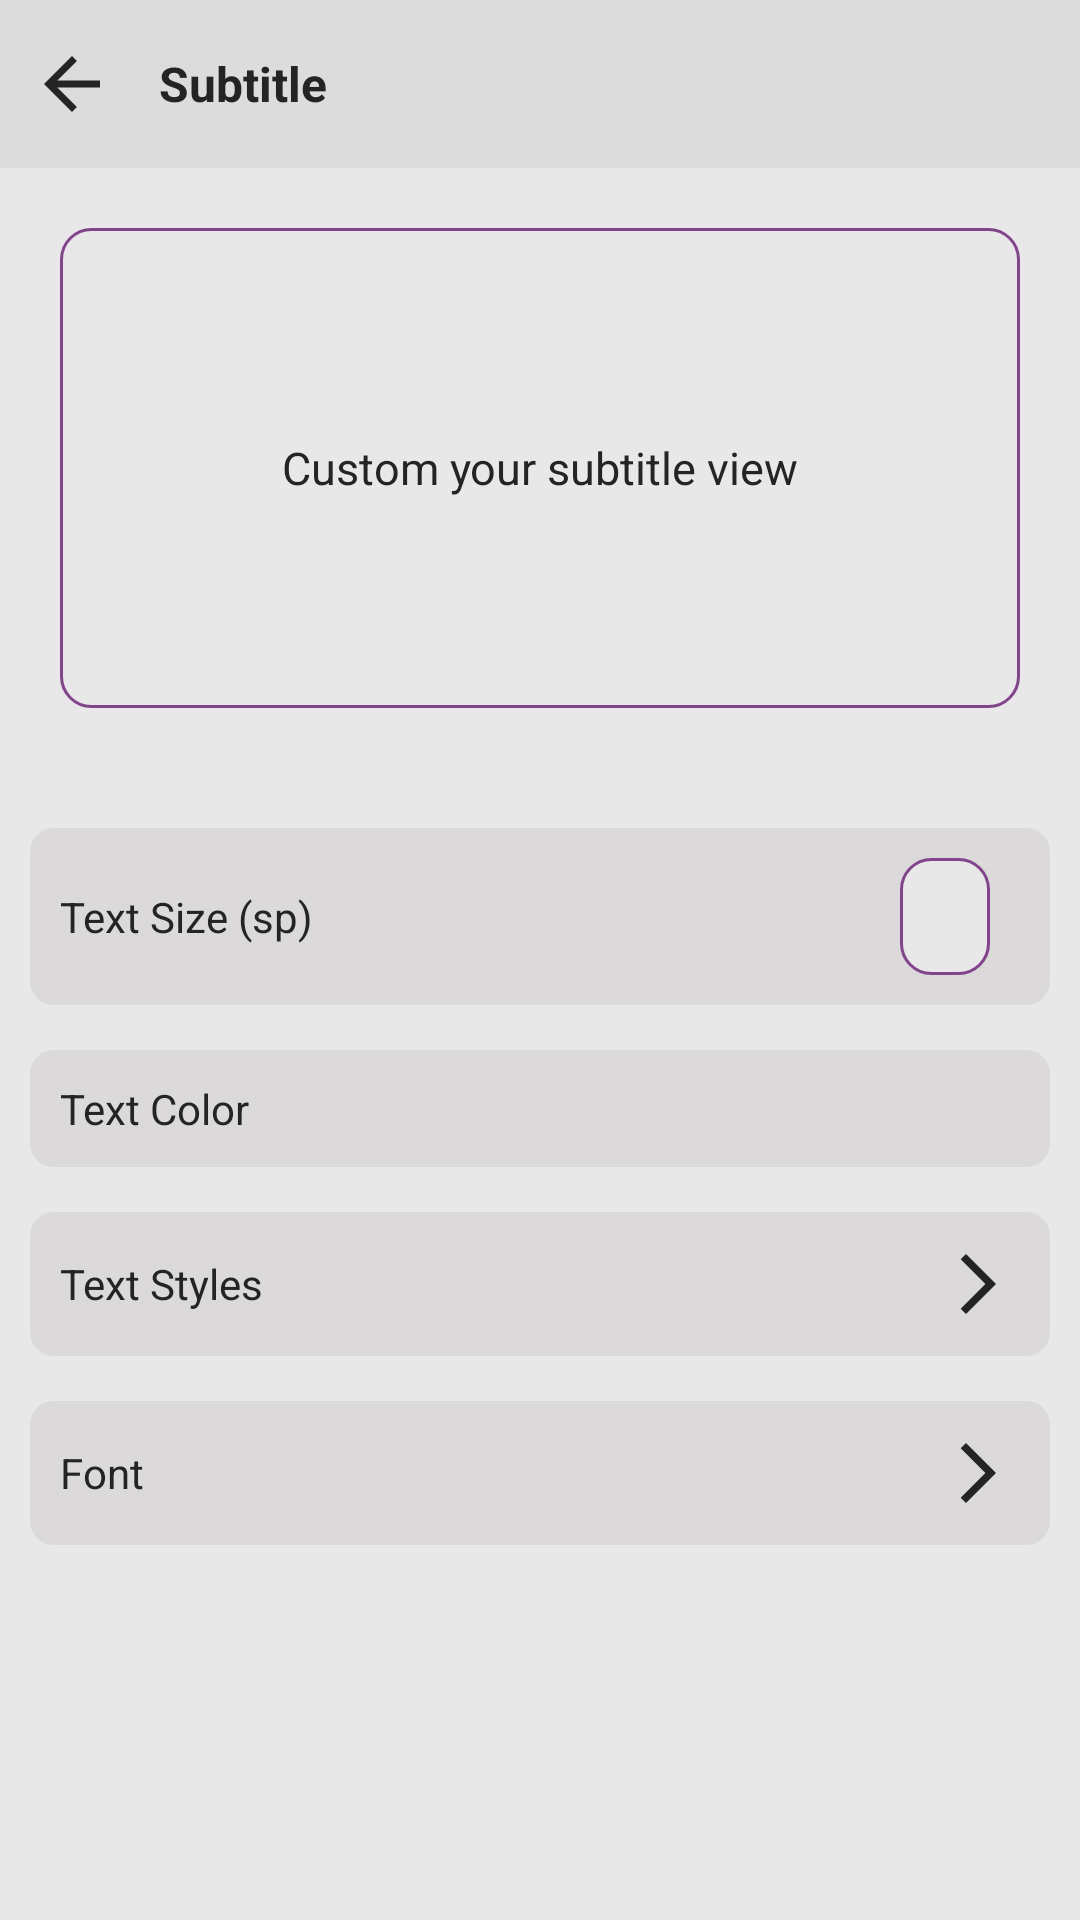

Named icons in this screenshot (1080*1920) and their centers, [x,y]:
back: [72,84]
forward: [978,1284], [978,1473]
